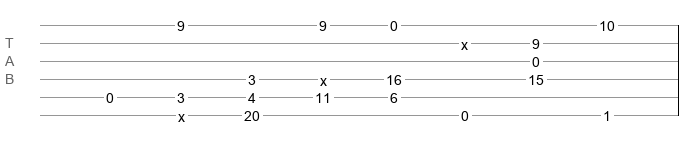0: (106, 90, 114, 100), (390, 18, 398, 28), (461, 108, 469, 118), (532, 54, 540, 64)
1: (603, 108, 611, 118)
10: (599, 18, 615, 28)
11: (315, 90, 331, 100)
15: (528, 72, 544, 82)
16: (386, 72, 402, 82)
20: (244, 108, 260, 118)
3: (177, 90, 185, 100), (248, 72, 256, 82)
4: (248, 90, 256, 100)
6: (390, 90, 398, 100)
9: (177, 18, 185, 28), (319, 18, 327, 28), (532, 36, 540, 46)
x: (178, 109, 185, 117), (320, 73, 327, 81), (461, 37, 468, 45)
